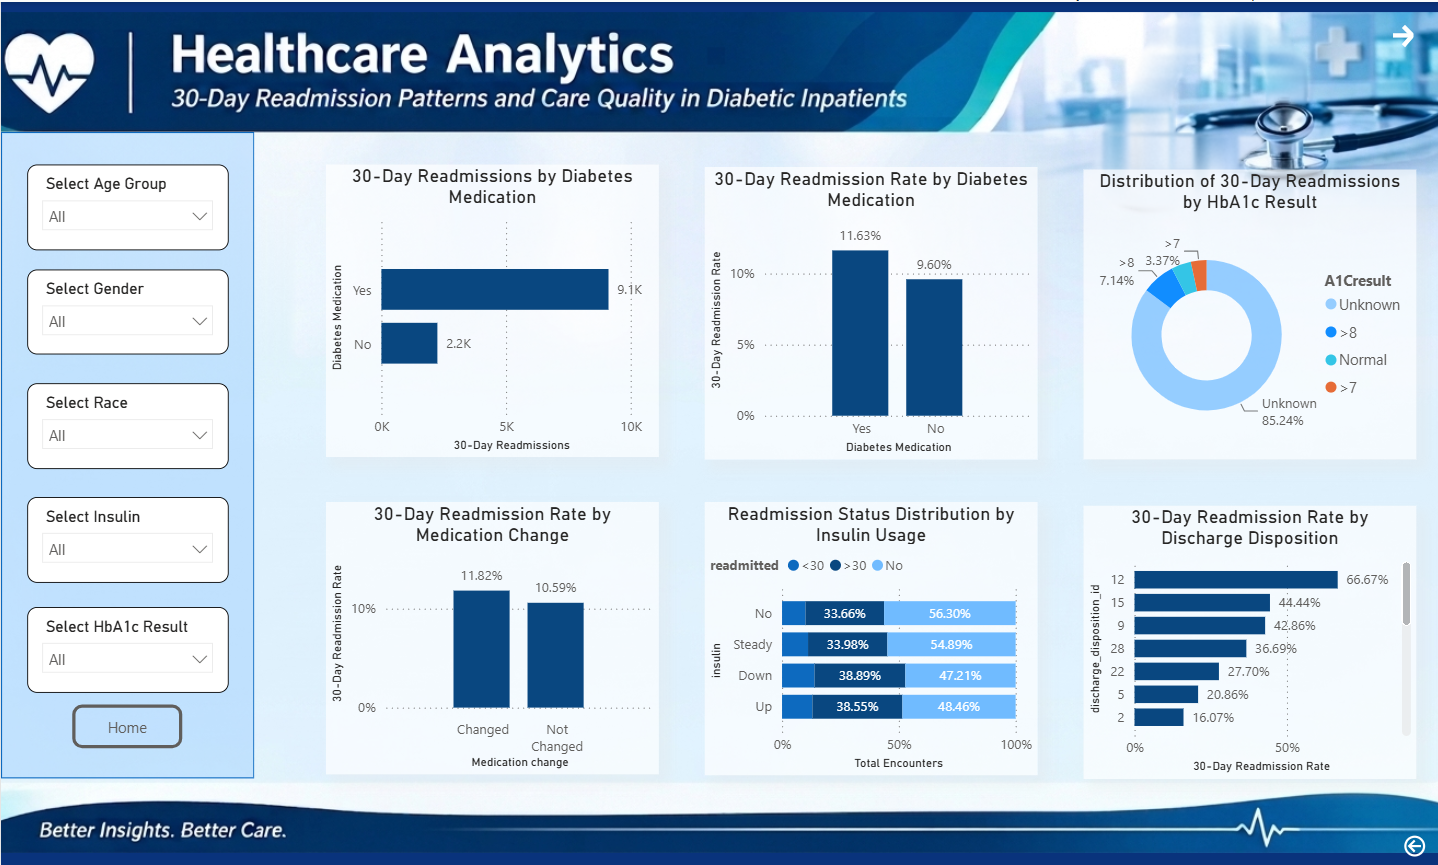

The dashboard page shown, as its layout file describes it:
{"tool":"powerbi","page":{"name":"Clinical & Care Quality Analysis","canvas":[1313,791],"ordinal":3},"visuals":[{"type":"clusteredColumnChart","title":"30-Day Readmission Rate by Diabetes Medication","fields":{"Y":["Healthcare_readmission_data.30-Day Readmission Rate"],"Category":["Healthcare_readmission_data.diabetesMed"]},"box":[642.9,150.3,304.2,267.2],"z":0},{"type":"clusteredBarChart","title":"30-Day Readmission Rate by Discharge Disposition","fields":{"Category":["Healthcare_readmission_data.discharge_disposition_id"],"Y":["Healthcare_readmission_data.30-Day Readmission Rate"]},"box":[988.8,460.4,304.2,249.3],"z":1000},{"type":"donutChart","title":"Distribution of 30-Day Readmissions by HbA1c Result","fields":{"Category":["Healthcare_readmission_data.A1Cresult"],"Y":["Healthcare_readmission_data.30-Day Readmissions"]},"box":[989.1,152.7,304.2,264.8],"z":2000},{"type":"hundredPercentStackedBarChart","title":"Readmission Status Distribution by Insulin Usage","fields":{"Y":["Healthcare_readmission_data.Total Encounters"],"Category":["Healthcare_readmission_data.insulin"],"Series":["Healthcare_readmission_data.readmitted"]},"box":[642.9,456.8,304.2,249.3],"z":3000},{"type":"clusteredBarChart","title":"30-Day Readmissions by Diabetes Medication","fields":{"Category":["Healthcare_readmission_data.diabetesMed"],"Y":["Healthcare_readmission_data.30-Day Readmissions"]},"box":[297,147.9,304.2,267.2],"z":4000},{"type":"clusteredColumnChart","title":"30-Day Readmission Rate by Medication Change","fields":{"Y":["Healthcare_readmission_data.30-Day Readmission Rate"],"Category":["Healthcare_readmission_data.change"]},"box":[296.8,457,304.2,248.8],"z":5000},{"type":"shape","box":[0,119.3,231.4,590.4],"z":6000},{"type":"slicer","fields":{"Values":["Healthcare_readmission_data.age"]},"box":[23.9,147.9,183.7,78.7],"z":7000},{"type":"slicer","fields":{"Values":["Healthcare_readmission_data.gender"]},"box":[23.9,244.5,183.7,77.5],"z":8000},{"type":"slicer","fields":{"Values":["Healthcare_readmission_data.race"]},"box":[23.9,348.3,183.7,78.7],"z":9000},{"type":"slicer","fields":{"Values":["Healthcare_readmission_data.insulin"]},"box":[23.9,452.1,183.7,78.7],"z":10000},{"type":"slicer","fields":{"Values":["Healthcare_readmission_data.A1Cresult"]},"box":[23.9,552.3,183.7,78.7],"z":11000},{"type":"actionButton","box":[65.1,641.7,100.5,40],"z":13500},{"type":"actionButton","box":[1258.2,11.4,54.8,40],"z":14500},{"type":"actionButton","box":[1270.8,751.3,42.2,40],"z":15501}]}

Visuals, with their boxes in screenshot pixels (x1, y1, x2, y2), scaled from the page's 1313x791 canvas onto the 1438x865 screenshot:
"30-Day Readmission Rate by Diabetes Medication" clusteredColumnChart: left=704, top=164, right=1037, bottom=457
"30-Day Readmission Rate by Discharge Disposition" clusteredBarChart: left=1083, top=503, right=1416, bottom=776
"Distribution of 30-Day Readmissions by HbA1c Result" donutChart: left=1083, top=167, right=1416, bottom=457
"Readmission Status Distribution by Insulin Usage" hundredPercentStackedBarChart: left=704, top=500, right=1037, bottom=772
"30-Day Readmissions by Diabetes Medication" clusteredBarChart: left=325, top=162, right=658, bottom=454
"30-Day Readmission Rate by Medication Change" clusteredColumnChart: left=325, top=500, right=658, bottom=772
shape: left=0, top=130, right=253, bottom=776
slicer - Healthcare_readmission_data.age: left=26, top=162, right=227, bottom=248
slicer - Healthcare_readmission_data.gender: left=26, top=267, right=227, bottom=352
slicer - Healthcare_readmission_data.race: left=26, top=381, right=227, bottom=467
slicer - Healthcare_readmission_data.insulin: left=26, top=494, right=227, bottom=580
slicer - Healthcare_readmission_data.A1Cresult: left=26, top=604, right=227, bottom=690
actionButton: left=71, top=702, right=181, bottom=745
actionButton: left=1378, top=12, right=1437, bottom=56
actionButton: left=1392, top=822, right=1437, bottom=864
